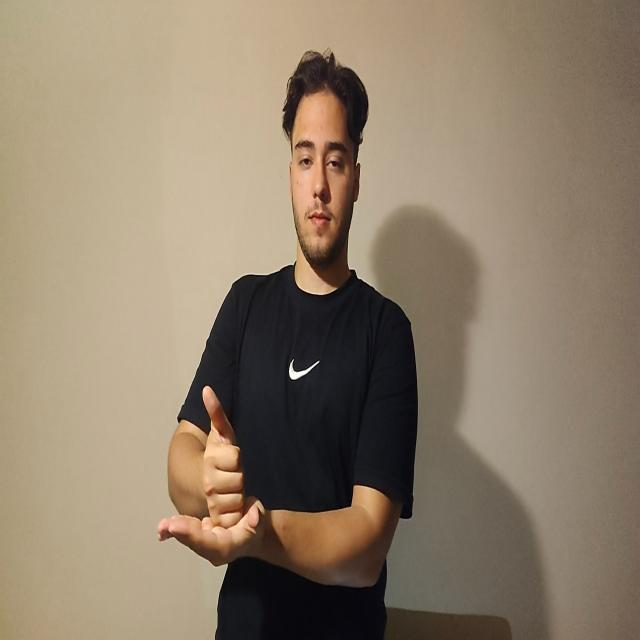help: (157, 381, 272, 572)
